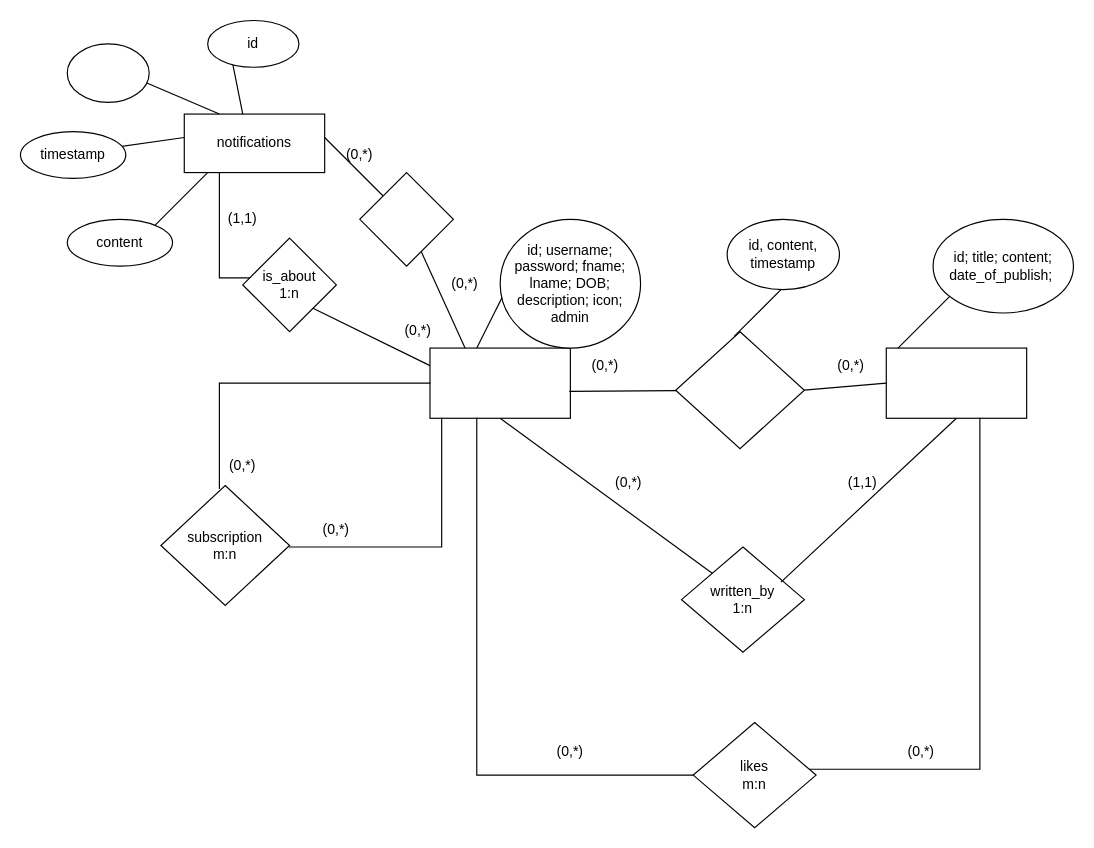
Image size: 1094x848. Some labels were removed from this diagram. Each missing label, with the centre of its shape:
"articles" goes at (x=956, y=382).
"commented_on m:n" goes at (x=739, y=390).
"host_id" goes at (x=107, y=72).
"notify m:n" goes at (x=406, y=218).
"user" goes at (x=499, y=382).
